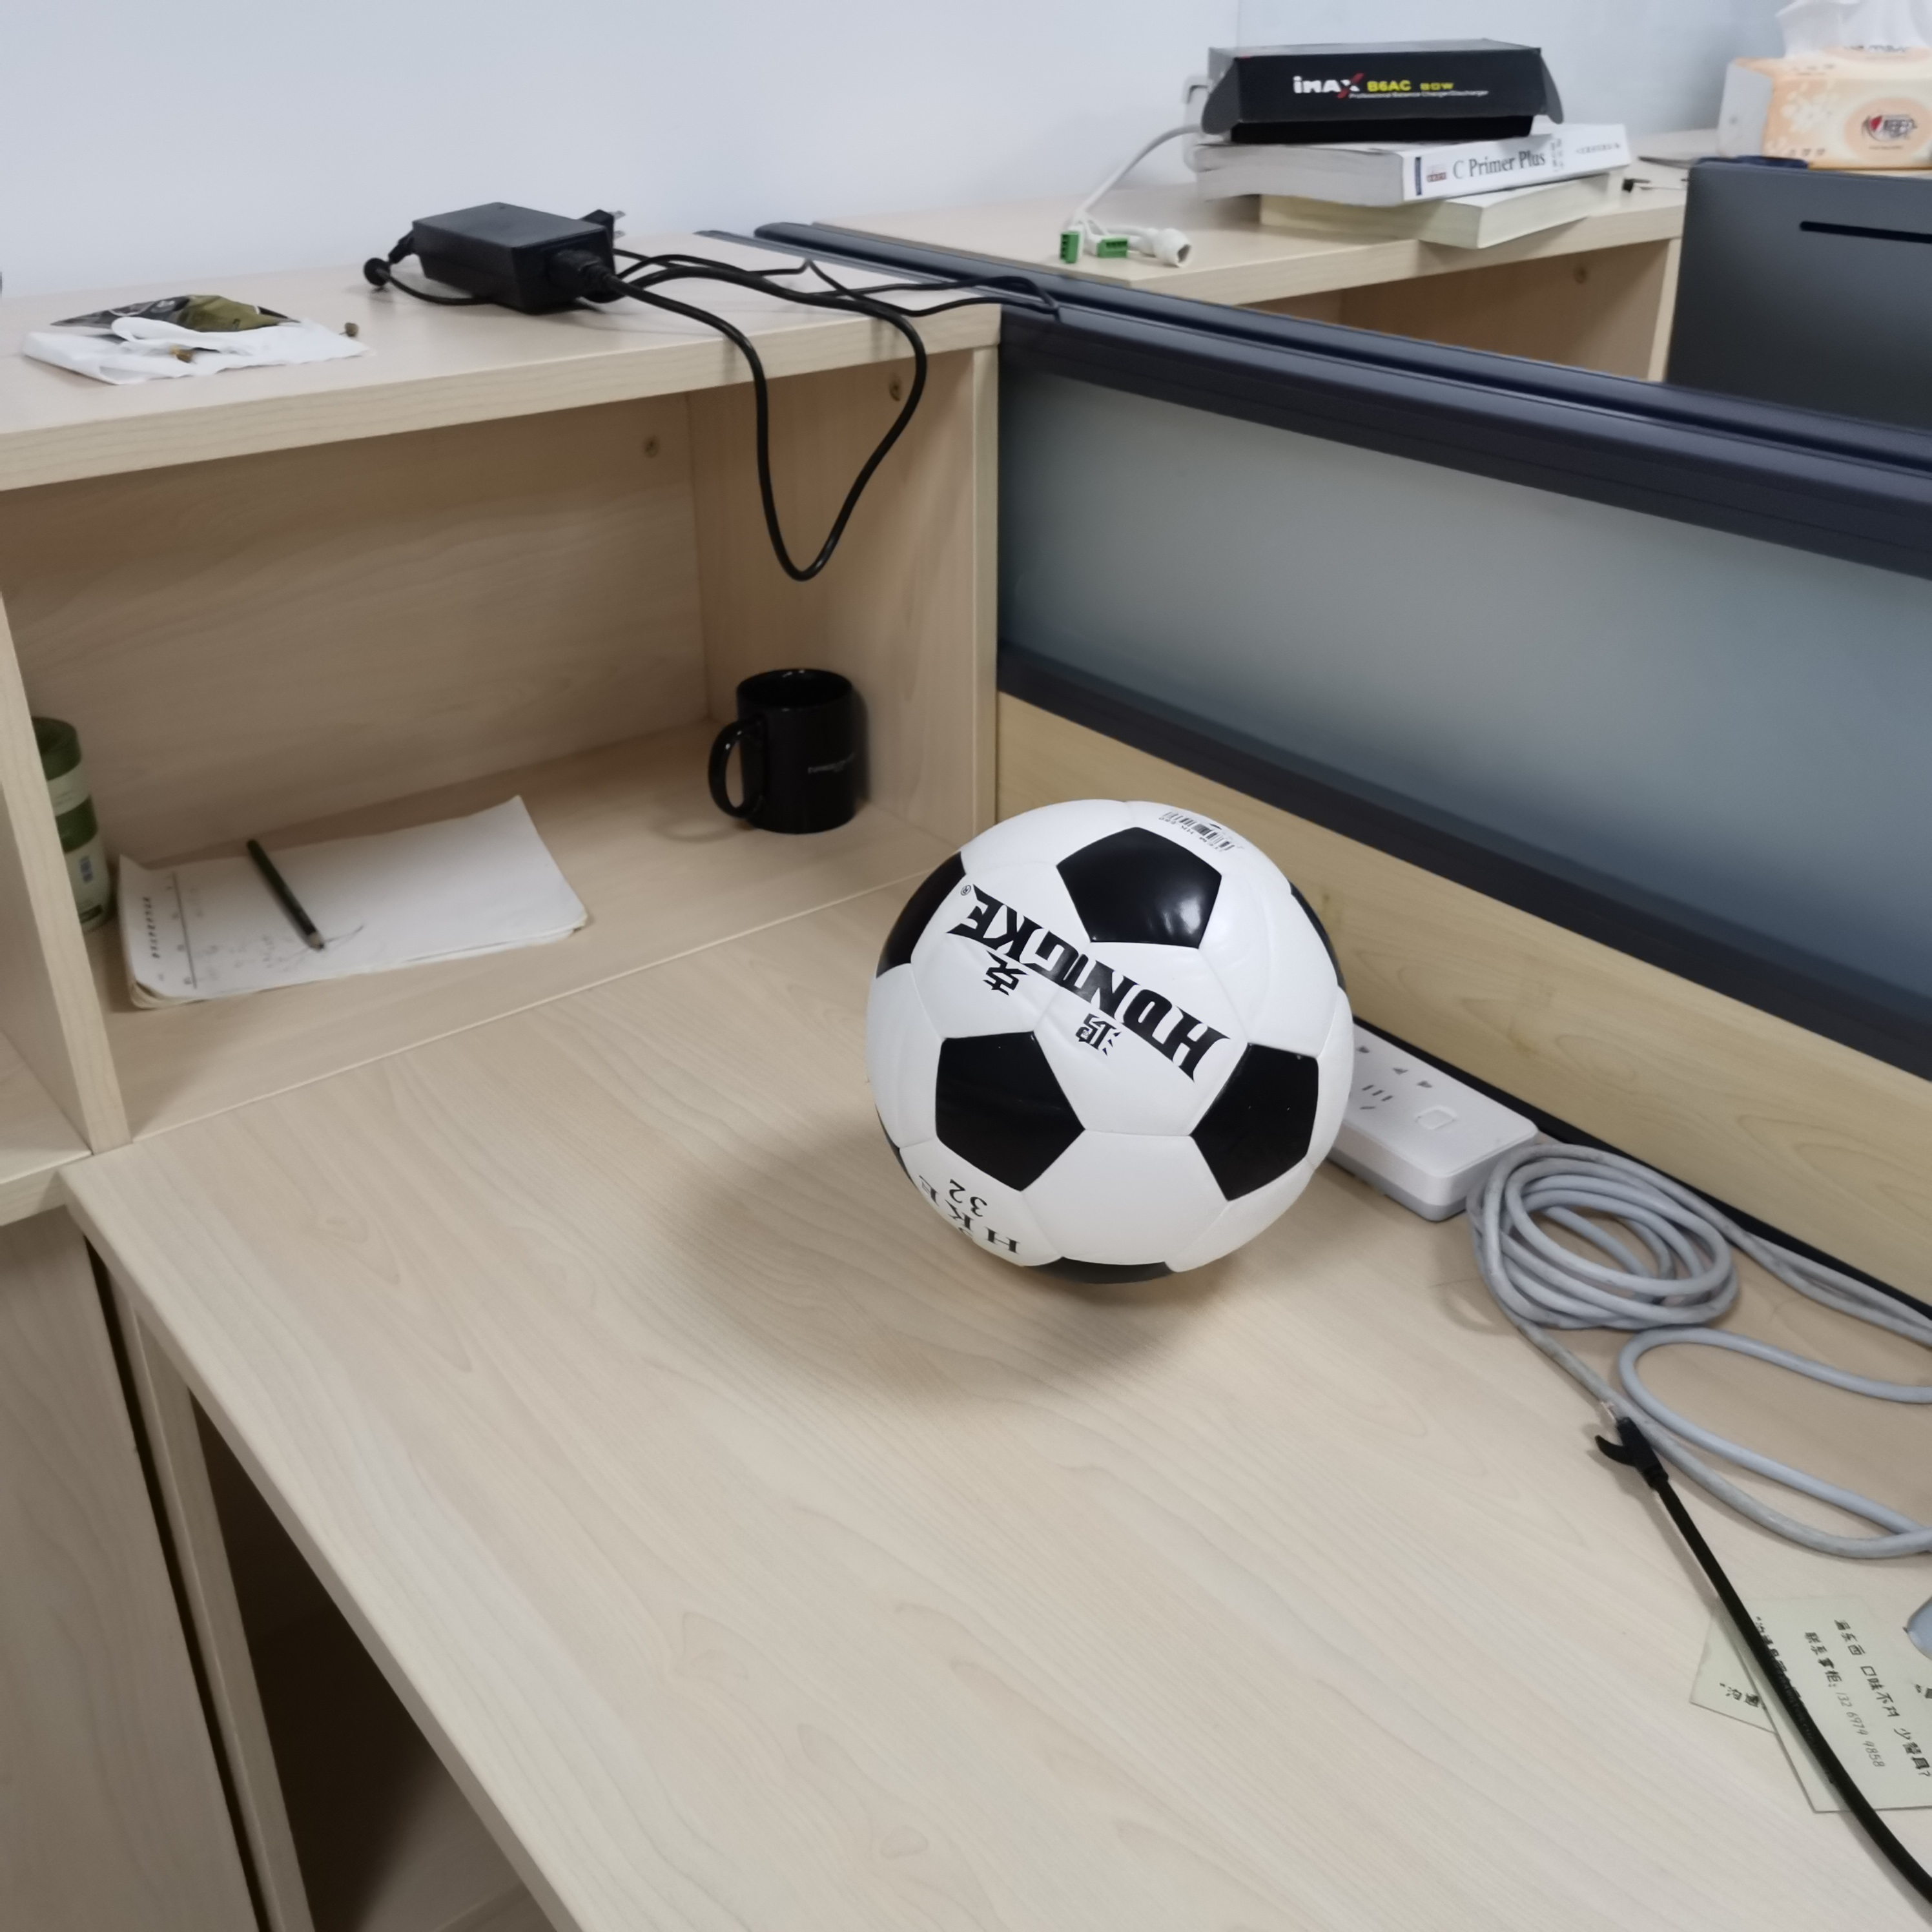football: (867, 796, 1355, 1281)
